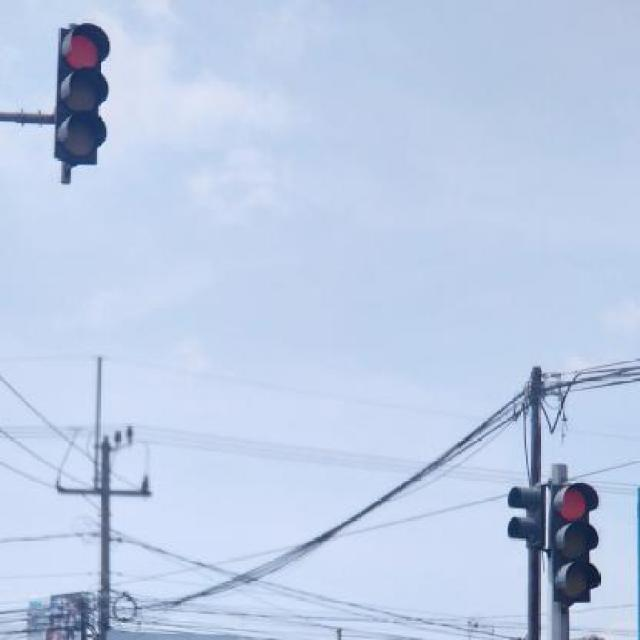traffic light: (57, 23, 111, 163), (554, 485, 596, 605)
